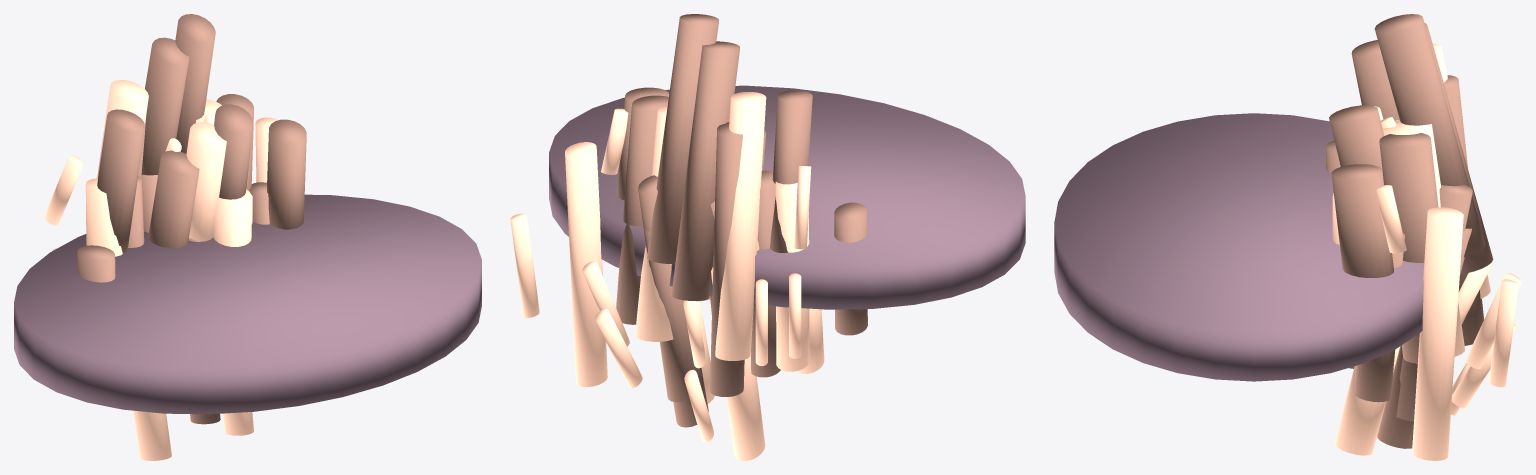
File: coral-branch-01.glb
3 views of the same model, side by side, from view 1: azimuth 30°, elevation 25°; view 2: azimuth 150°, elevation 25°; view 3: azimuth 270°, elevation 25° (orthographic). The views are drawn at different scales.
Parts seen in each view (by area): view 1: coral_branch_01_basal_mound, coral_branch_01_branch_10, coral_branch_01_branch_07, coral_branch_01_branch_02, coral_branch_01_branch_08, coral_branch_01_branch_05, coral_branch_01_branch_06, coral_branch_01_branch_04, coral_branch_01_branch_00, coral_branch_01_branch_12, coral_branch_01_branch_18, coral_branch_01_branch_09 (+8 smaller); view 2: coral_branch_01_basal_mound, coral_branch_01_branch_07, coral_branch_01_branch_09, coral_branch_01_branch_05, coral_branch_01_branch_24, coral_branch_01_branch_11, coral_branch_01_branch_01, coral_branch_01_branch_10, coral_branch_01_branch_20, coral_branch_01_branch_12, coral_branch_01_branch_03, coral_branch_01_branch_18 (+15 smaller); view 3: coral_branch_01_basal_mound, coral_branch_01_branch_24, coral_branch_01_branch_05, coral_branch_01_branch_02, coral_branch_01_branch_01, coral_branch_01_branch_04, coral_branch_01_branch_21, coral_branch_01_branch_10, coral_branch_01_side_branch_24, coral_branch_01_branch_22, coral_branch_01_branch_20, coral_branch_01_branch_23 (+7 smaller).
Part boxes in pixels (x1,y1,x2,y2): coral_branch_01_basal_mound: (14,194,481,414); coral_branch_01_branch_10: (97,109,144,253); coral_branch_01_branch_07: (141,37,189,175); coral_branch_01_branch_02: (267,119,306,229); coral_branch_01_branch_08: (148,150,199,248); coral_branch_01_branch_05: (175,14,215,153); coral_branch_01_branch_06: (186,122,226,241); coral_branch_01_branch_04: (214,104,253,199); coral_branch_01_branch_00: (213,189,251,246); coral_branch_01_branch_12: (85,178,122,256); coral_branch_01_branch_18: (133,410,171,460); coral_branch_01_branch_09: (97,79,148,178); coral_branch_01_basal_mound: (549,85,1025,309); coral_branch_01_branch_07: (671,41,739,300); coral_branch_01_branch_09: (715,92,766,360); coral_branch_01_branch_05: (647,14,718,263); coral_branch_01_branch_24: (565,142,607,386); coral_branch_01_branch_11: (710,122,744,396); coral_branch_01_branch_01: (616,95,668,324); coral_branch_01_branch_10: (770,90,812,252); coral_branch_01_branch_20: (644,226,708,427); coral_branch_01_branch_12: (775,181,809,371); coral_branch_01_branch_03: (635,104,673,341); coral_branch_01_branch_18: (711,267,765,460); coral_branch_01_basal_mound: (1054,113,1424,381); coral_branch_01_branch_24: (1412,207,1463,460); coral_branch_01_branch_05: (1374,14,1485,257); coral_branch_01_branch_02: (1331,164,1393,277); coral_branch_01_branch_01: (1379,133,1438,363); coral_branch_01_branch_04: (1329,105,1384,182); coral_branch_01_branch_21: (1334,346,1400,455); coral_branch_01_branch_10: (1351,40,1399,120); coral_branch_01_side_branch_24: (1488,279,1518,387); coral_branch_01_branch_22: (1396,184,1472,421); coral_branch_01_branch_20: (1377,228,1471,448); coral_branch_01_branch_23: (1354,233,1404,402).
Bounding box in the file's own units: 2.13 × 2.02 × 1.92.
